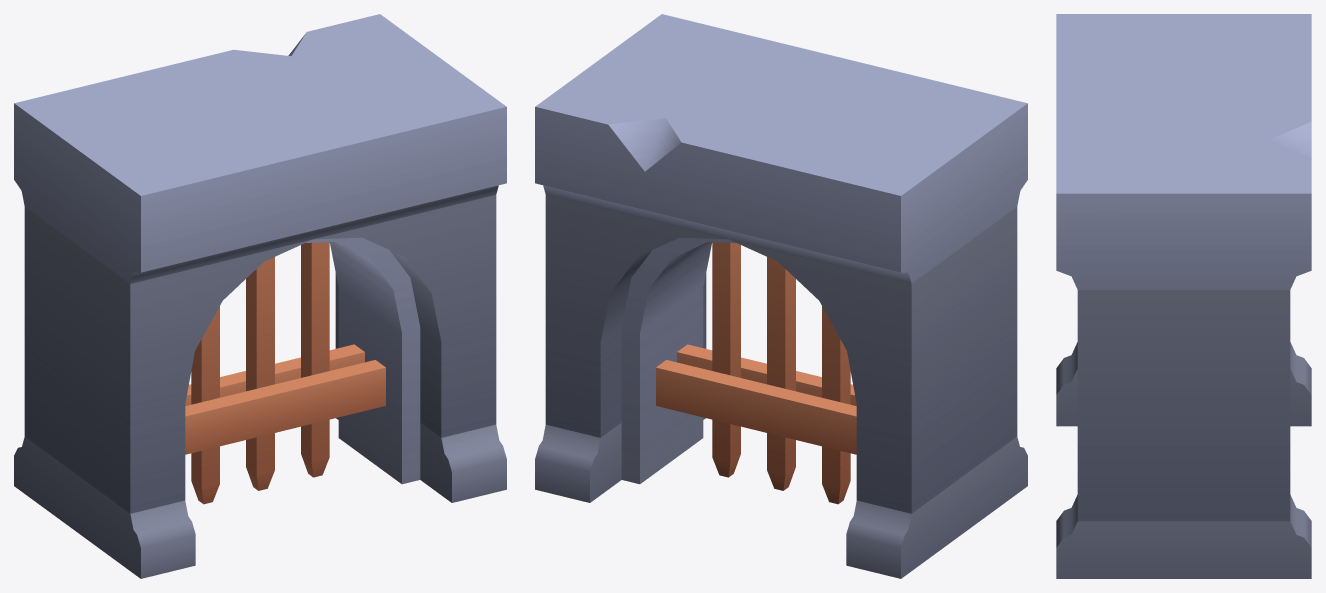
3 views of the same model, side by side, from view 1: azimuth 30°, elevation 25°; view 2: azimuth 150°, elevation 25°; view 3: azimuth 270°, elevation 25° (orthographic).
Parts seen in each view (by area): view 1: wall_gate, gate; view 2: wall_gate, gate; view 3: wall_gate.
Boxes of the visible parts, <box> form: wall_gate: <box>14,14,506,578</box>; gate: <box>185,242,385,504</box>; wall_gate: <box>535,14,1027,578</box>; gate: <box>656,242,856,504</box>; wall_gate: <box>1056,14,1311,578</box>.
Size of the model in its own units: 1 by 1 by 0.6.
Materials: 1 (1 with a texture image).
